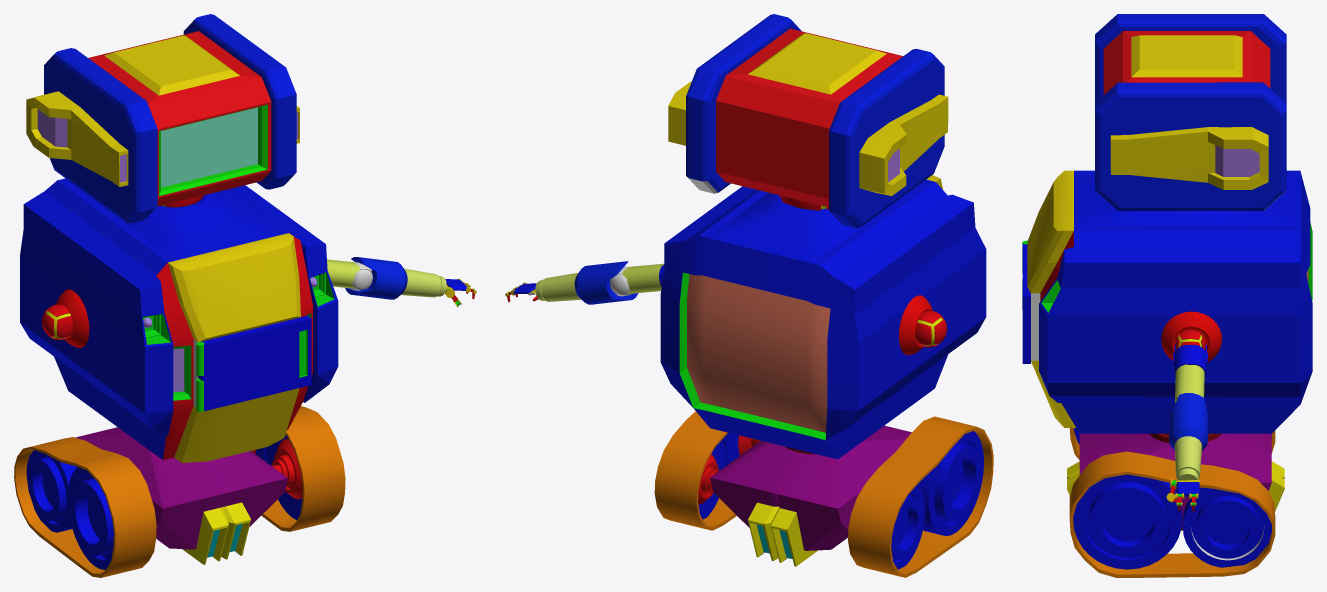
The model's file is Rust Bucket v3_Shane_Thompson_2021.11.fbx.
The picture shows the model from 3 angles, left to right: view 1: azimuth 30°, elevation 25°; view 2: azimuth 150°, elevation 25°; view 3: azimuth 270°, elevation 25°; orthographic projection. The views are drawn at different scales.
Visible parts, largest first — view 1: Rust Bucket Joined; view 2: Rust Bucket Joined; view 3: Rust Bucket Joined.
Boxes of the visible parts, bbox=[...] form: Rust Bucket Joined: bbox=[14, 14, 476, 577]; Rust Bucket Joined: bbox=[505, 14, 993, 577]; Rust Bucket Joined: bbox=[1022, 14, 1312, 577].
Bounding box in the file's own units: 146 × 152 × 85.11.
